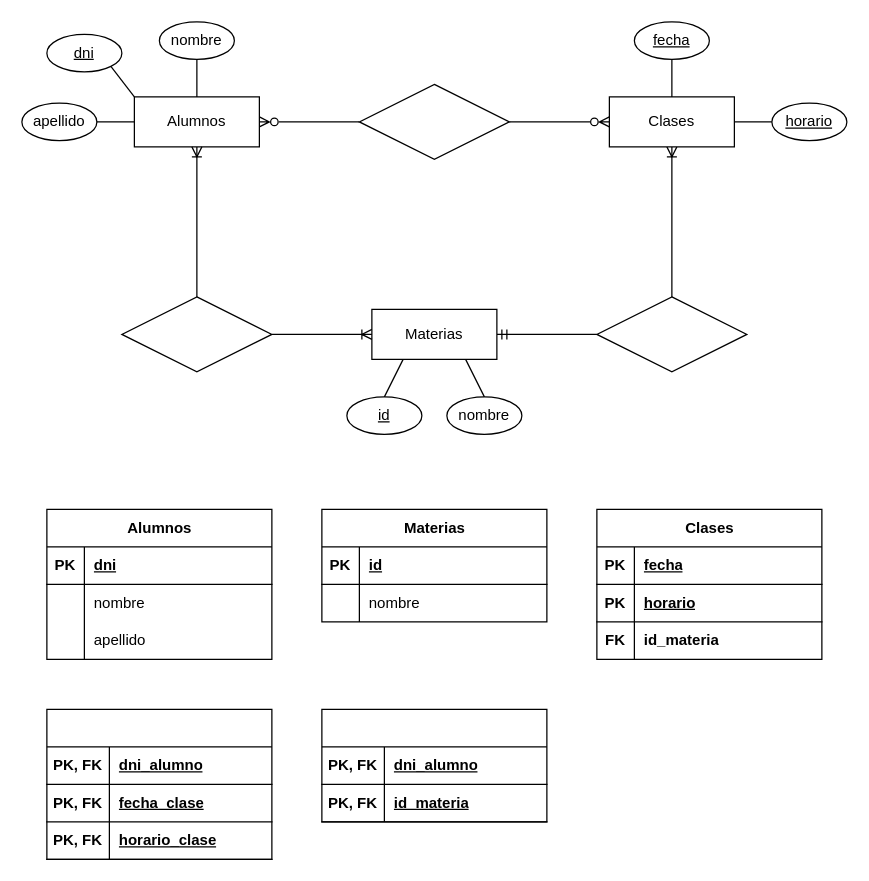
The diagram is 869 pixels wide and 881 high, and some of its shapes have lost their labels. Each missing label, with the box of its shape:
alumno_asiste_clase: (46, 708, 272, 859)
alumno_cursa_materia: (321, 708, 547, 822)
asiste: (358, 83, 509, 159)
cursa: (121, 296, 272, 372)
se_desarrolla: (596, 296, 747, 372)
